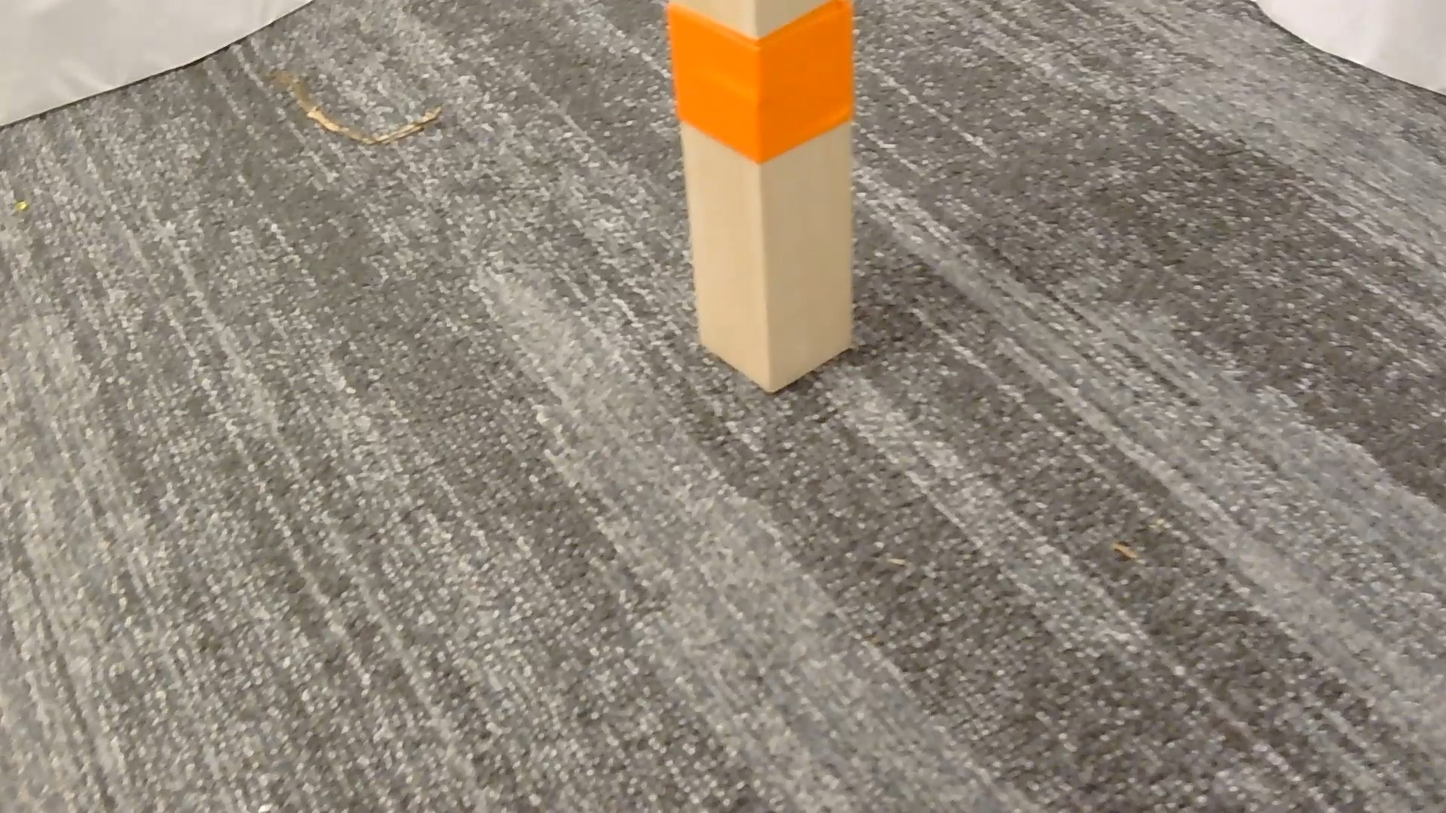Wooden Block: (667, 0, 854, 391)
